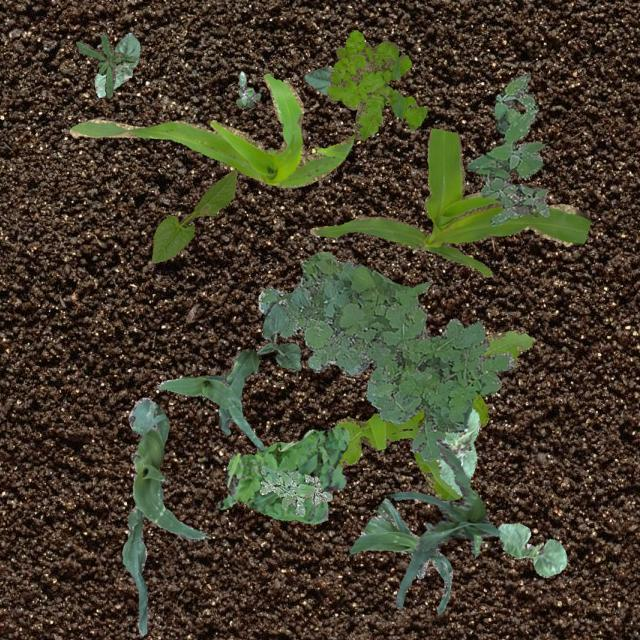crop: (310, 127, 590, 276), (69, 72, 354, 188), (122, 396, 206, 634), (388, 438, 498, 608), (348, 497, 452, 612), (156, 348, 264, 451), (150, 168, 236, 262), (496, 522, 566, 576), (436, 406, 478, 494), (256, 302, 300, 369), (94, 32, 138, 96), (302, 66, 332, 96)
weed: (257, 250, 514, 460), (336, 328, 534, 500), (216, 424, 348, 522), (466, 72, 548, 225), (326, 29, 426, 140), (76, 32, 134, 96), (258, 464, 332, 514), (236, 70, 260, 106)
